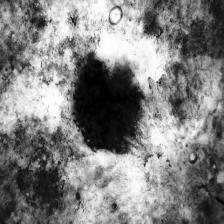Benign Marking or Mole: (70, 58, 147, 152)
